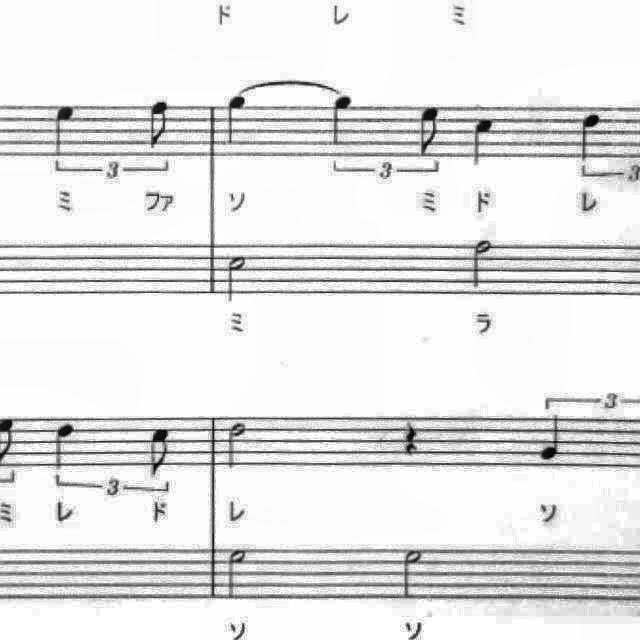Eighth-note: (411, 100, 449, 160), (144, 421, 180, 483), (140, 96, 176, 156)
Half-note: (466, 233, 502, 294), (396, 542, 432, 602), (221, 541, 255, 603), (221, 249, 255, 307), (222, 418, 254, 474)
Quarter-note: (464, 110, 504, 176), (572, 106, 612, 170), (46, 100, 84, 164), (219, 90, 257, 150), (535, 412, 573, 468), (326, 89, 360, 151), (47, 417, 83, 475)
Quarter-rest: (395, 412, 427, 460)
